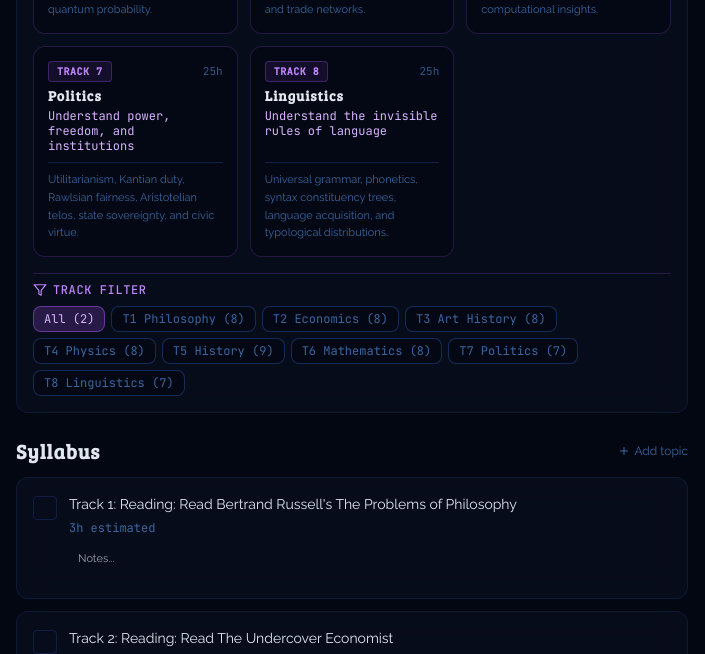
Test: CurriculumView - IELTS 2026 Preparation Sprint View › filters foundational topics when clicking track filter buttons and resets filter
(page scrolled)
expect the text "Bertrand Russell's The Problems of Philosophy" is shown: met, box x1=69 y1=496 x2=517 y2=512
expect the text "Track 2: Reading: Read The Undercover Economist" is shown: met, box x1=69 y1=628 x2=393 y2=648
Note: Click T1 Philosophy
Click the button "T1 Philosophy (8)" at coordinates (184, 319), box x1=111 y1=306 x2=256 y2=332
(page scrolled)
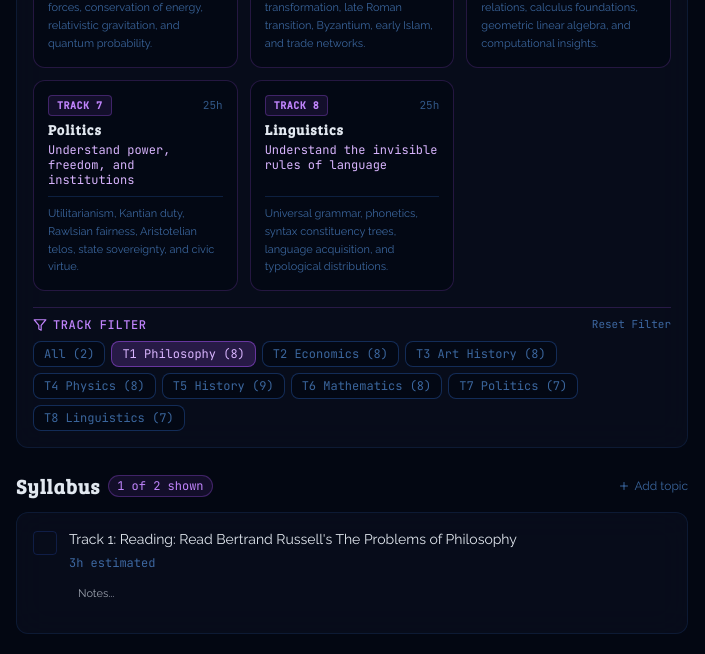
expect the text "Bertrand Russell's The Problems of Philosophy" is shown: met, box x1=69 y1=531 x2=517 y2=547
expect the text "The Undercover Economist" is gone: met
expect the text "1 of 2 shown" is shown: met, box x1=108 y1=475 x2=212 y2=497
Note: Click T2 Economics
Click the button "T2 Economics (8)" at coordinates (330, 354), box x1=262 y1=341 x2=399 y2=367
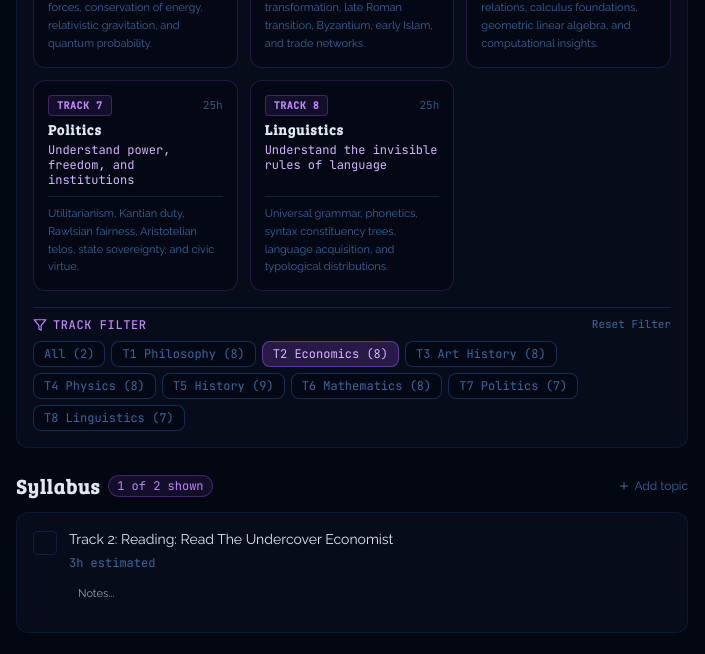
expect the text "1 of 2 shown" is shown: met, box x1=108 y1=475 x2=212 y2=497
expect the text "Bertrand Russell's The Problems of Philosophy" is gone: met
expect the text "Track 2: Reading: Read The Undercover Economist" is shown: met, box x1=69 y1=529 x2=393 y2=549
Click the button "T6 Mathematics (8)" at coordinates (366, 386), box x1=291 y1=373 x2=442 y2=399
(page scrolled)
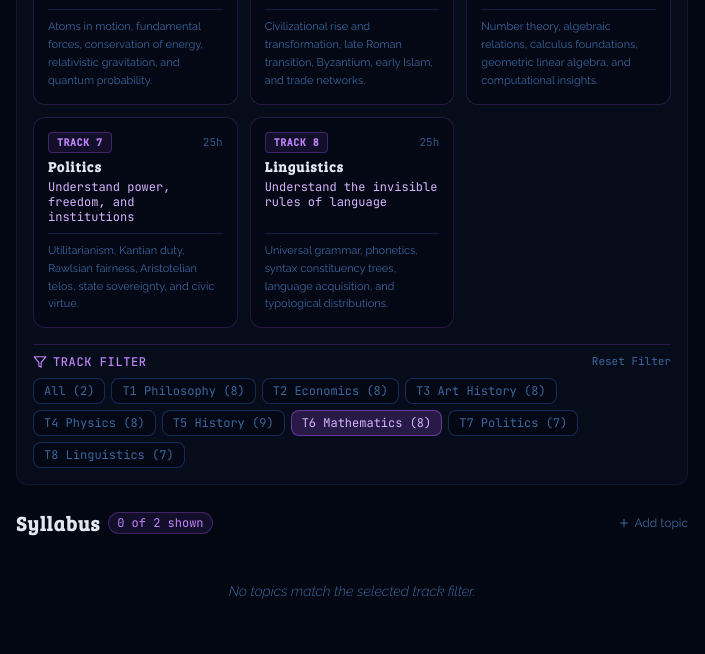
expect the text "Bertrand Russell's The Problems of Philosophy" is not shown: met
expect the text "The Undercover Economist" is gone: met
expect the text "No topics match the selected track filter." is shown: met, box x1=229 y1=583 x2=475 y2=599
Note: Click Reset Filter
Click the button "Reset Filter" at coordinates (631, 362), box x1=592 y1=353 x2=671 y2=370
(page scrolled)
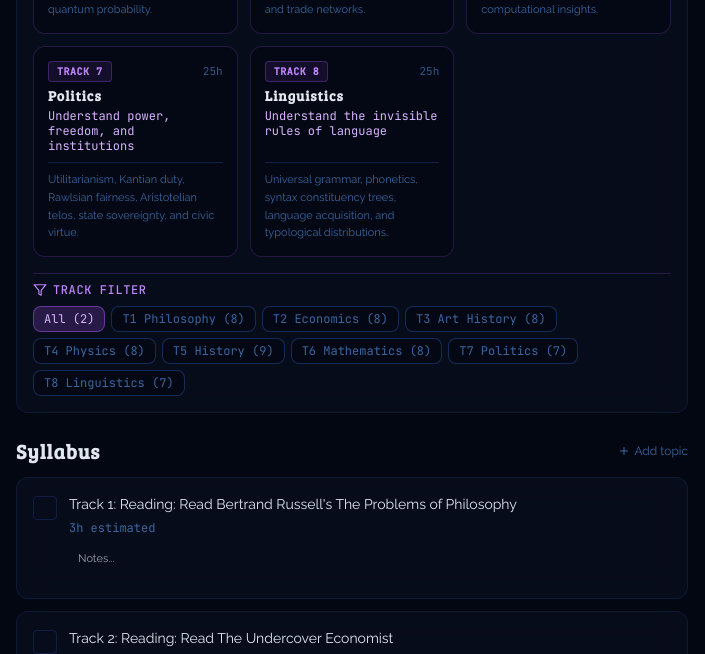
expect the text "Bertrand Russell's The Problems of Philosophy" is shown: met, box x1=69 y1=496 x2=517 y2=512
expect the text "Track 2: Reading: Read The Undercover Economist" is shown: met, box x1=69 y1=628 x2=393 y2=648
